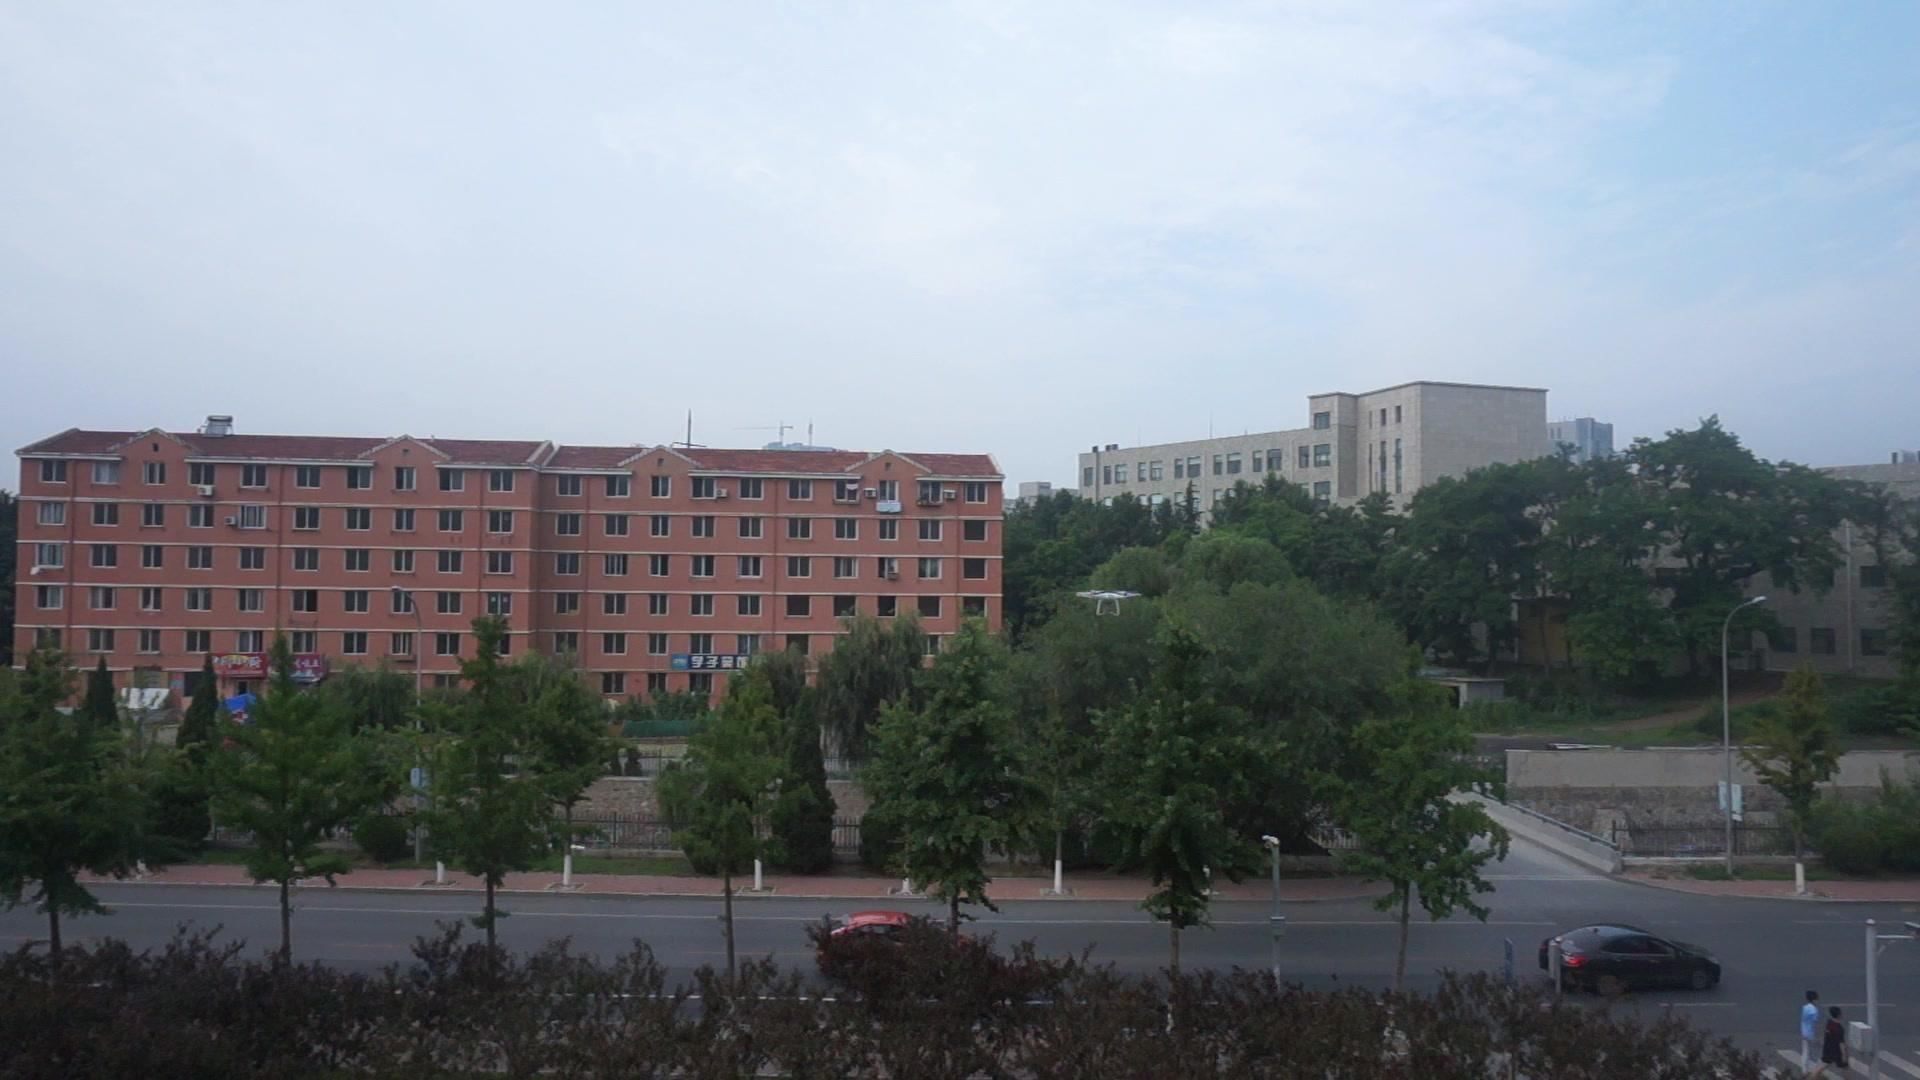UAV: (1077, 591, 1143, 618)
